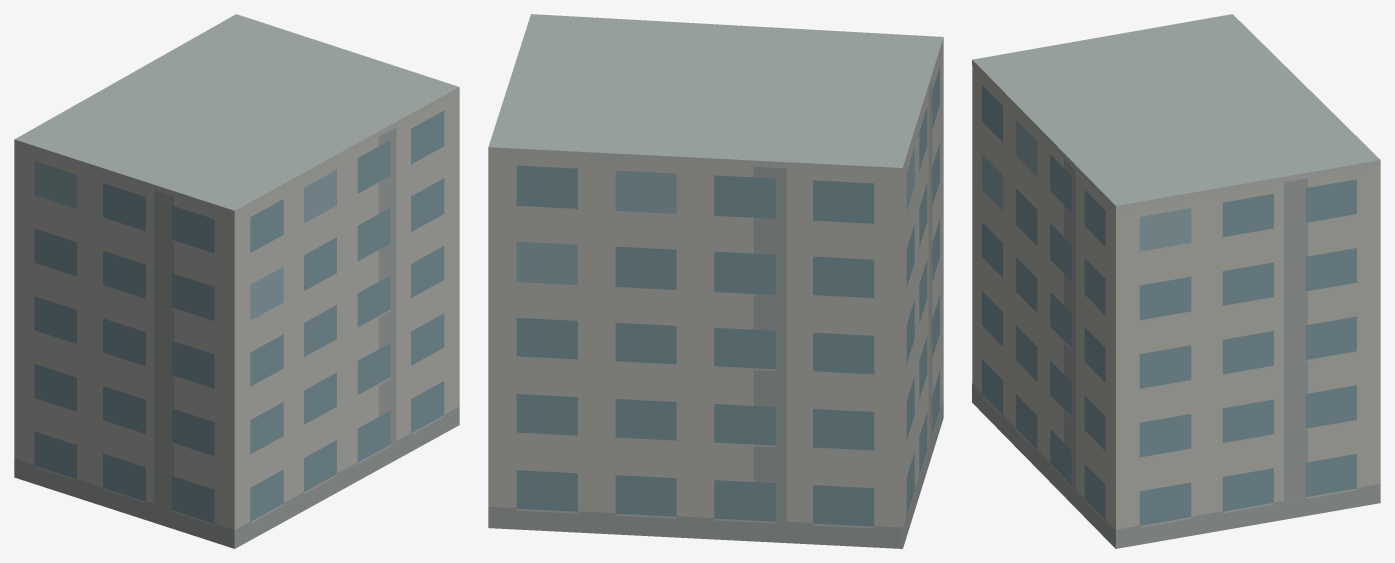
File: survey-upis-32859590.glb
3 renders of one model, left to right at view 1: azimuth 30°, elevation 25°; view 2: azimuth 150°, elevation 25°; view 3: azimuth 270°, elevation 25°, orthographic. The views are drawn at different scales.
Parts seen in each view (by area): view 1: survey-upis-32859590.tmp; view 2: survey-upis-32859590.tmp; view 3: survey-upis-32859590.tmp.
Part boxes in pixels (x1,y1,x2,y2): survey-upis-32859590.tmp: (14,14,459,548); survey-upis-32859590.tmp: (488,14,943,548); survey-upis-32859590.tmp: (972,14,1380,548).
Size of the model in its own units: 18.07 by 15.05 by 16.25.
